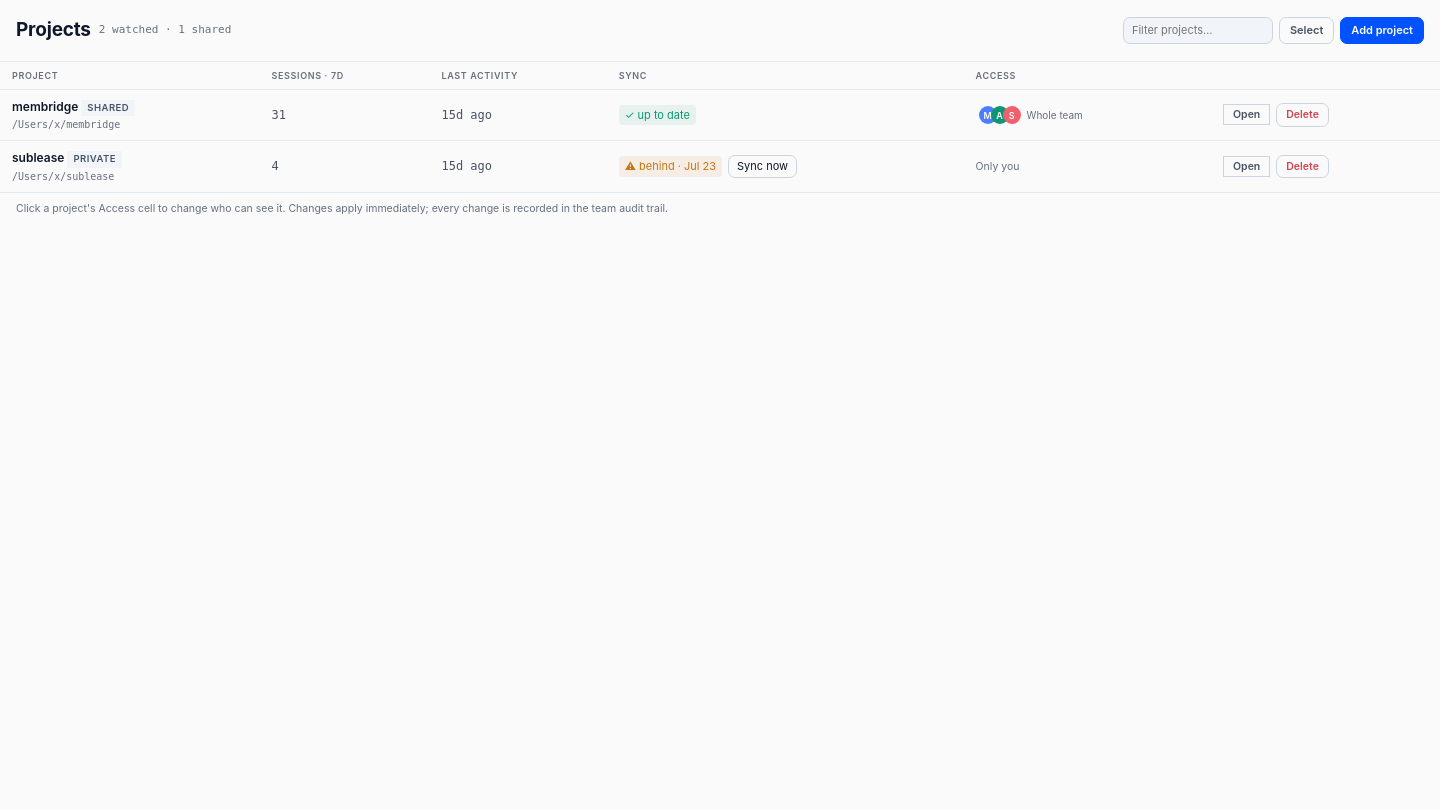
Test: ProjectsPage › surfaces a failed access toggle instead of silently snapping back
Click the button with aria-label "access for membridge" at (1034, 115), box x1=976 y1=103 x2=1092 y2=127
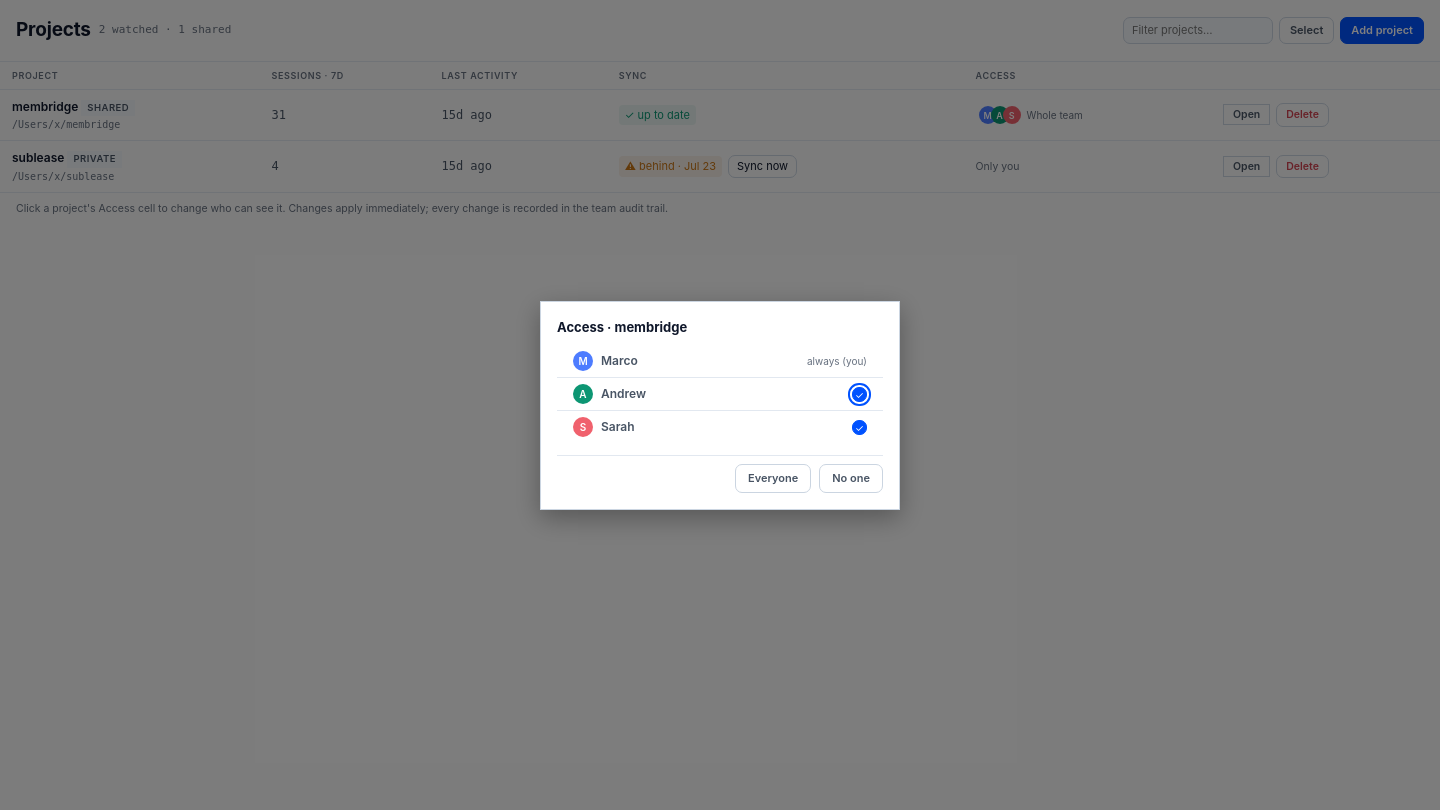
Click the checkbox named "Sarah" at (860, 427), box x1=852 y1=420 x2=867 y2=434
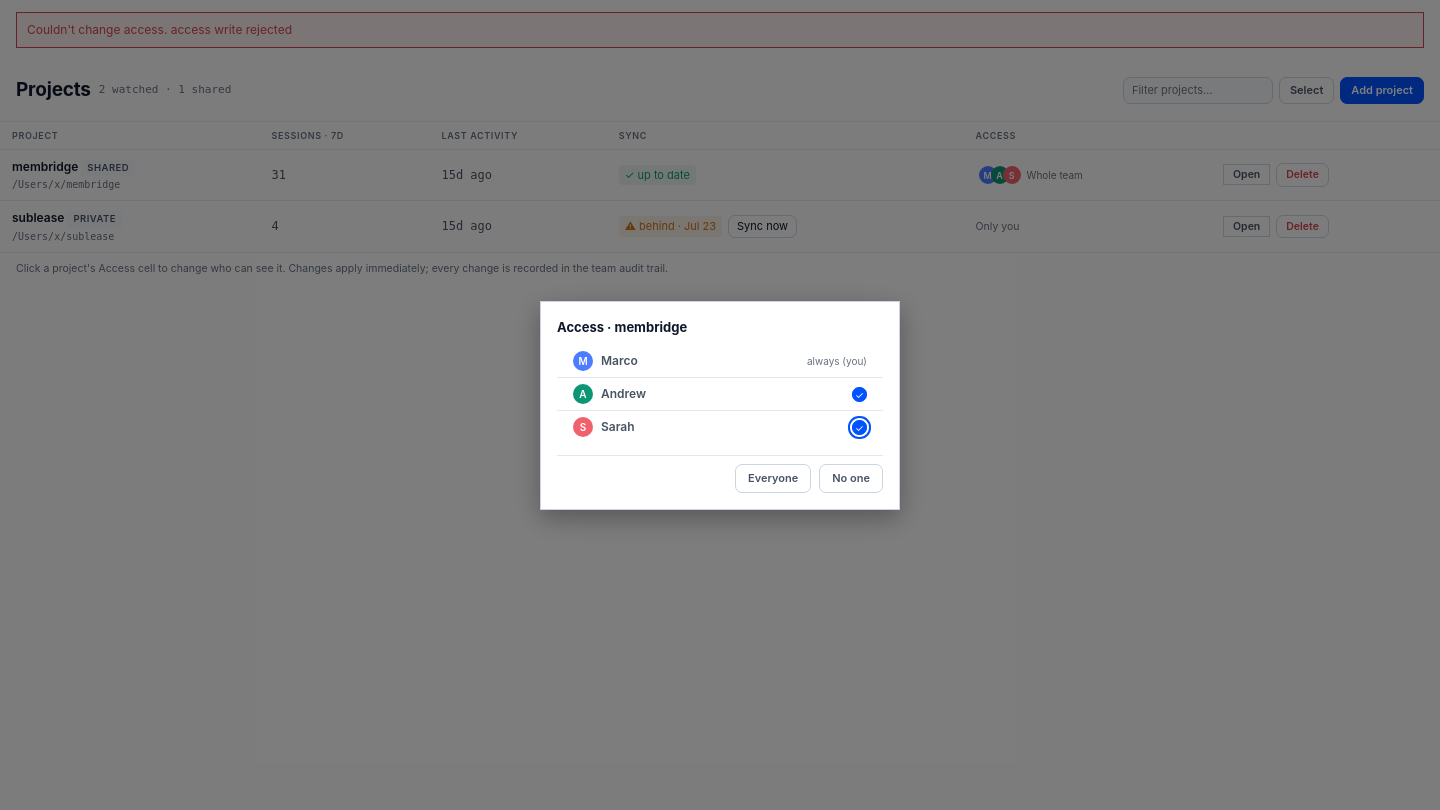
Expected: the text "Couldn't change access. access write rejected" is shown, x1=16 y1=12 x2=1424 y2=48
